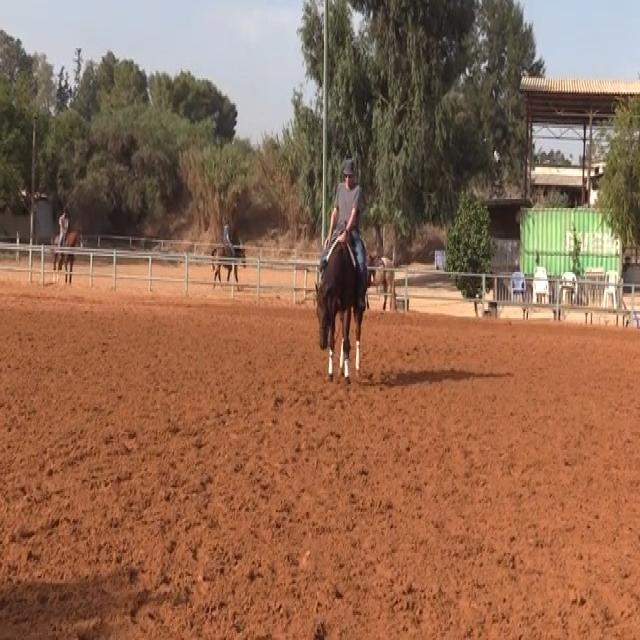horse: (314, 231, 370, 384)
